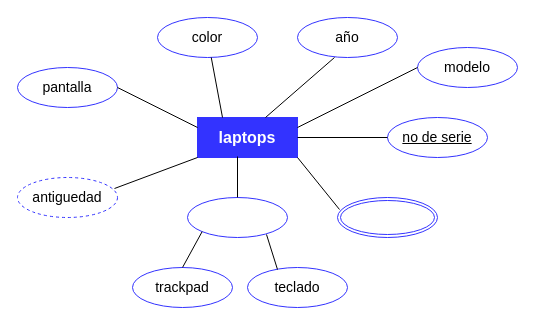
Image size: 535x325. Some labels were removed from this diagram. The shapes that lost their labels are listed below. From the top down, each one's box as (x1, y1, x2, y2) in pixels, then its label:
(186, 196, 288, 238): método de entrada
(336, 196, 438, 238): disco duro
